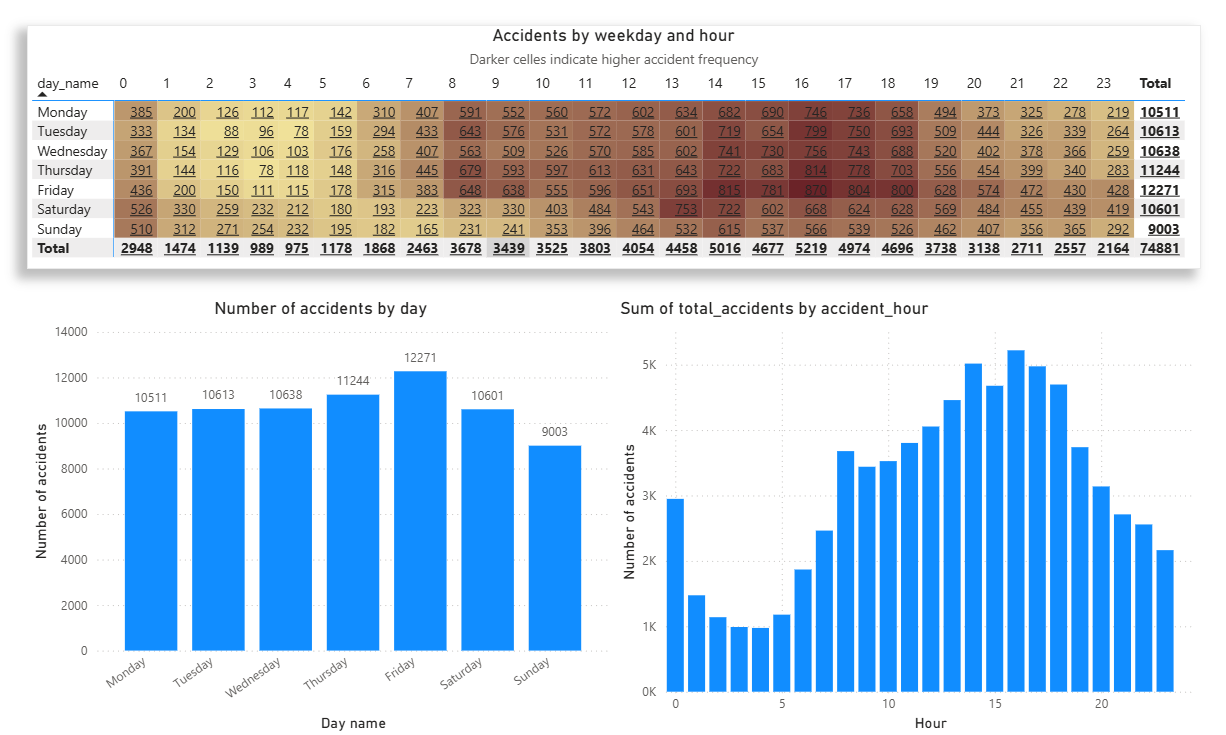

What the dashboard file says about the page in this screenshot:
{"tool":"powerbi","page":{"name":"REQ2","canvas":[1280,720],"ordinal":1},"visuals":[{"type":"pivotTable","title":"Accidents by weekday and hour","fields":{"Columns":["vw_accidents_by_day_hour.accident_hour"],"Rows":["vw_accidents_by_day_hour.day_name"],"Values":["Sum(vw_accidents_by_day_hour.total_accidents)"]},"box":[69.4,29,1141.1,237.3],"z":0},{"type":"clusteredColumnChart","title":"Number of accidents by day","fields":{"Category":["vw_accidents_by_day.day_name"],"Y":["Sum(vw_accidents_by_day.total_accidents)"]},"box":[69,294.5,571.6,425.9],"z":1000},{"type":"clusteredColumnChart","fields":{"Y":["Sum(vw_accidents_by_hour_of_day.total_accidents)"],"Category":["vw_accidents_by_hour_of_day.accident_hour"]},"box":[640.5,294.5,569.4,425.9],"z":2000}]}

Visuals, with their boxes on the page's 1280x720 design canvas (x1, y1, x2, y2). These are canvas units, not pixel positions in the 1226x735 screenshot, which may show the page scaled, cropped or inside an application window:
"Accidents by weekday and hour" pivotTable: <region>69, 29, 1210, 266</region>
"Number of accidents by day" clusteredColumnChart: <region>69, 294, 641, 720</region>
clusteredColumnChart - Sum(vw_accidents_by_hour_of_day.total_accidents) x vw_accidents_by_hour_of_day.accident_hour: <region>640, 294, 1210, 720</region>
